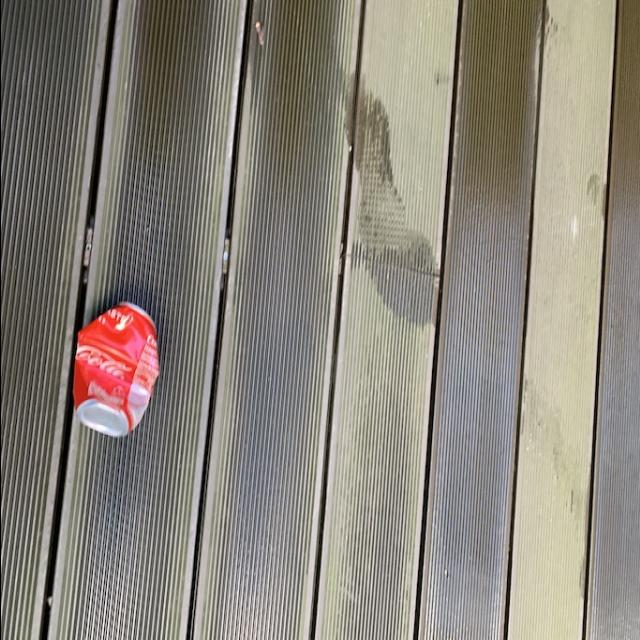Aluminum Can: (68, 299, 160, 440)
